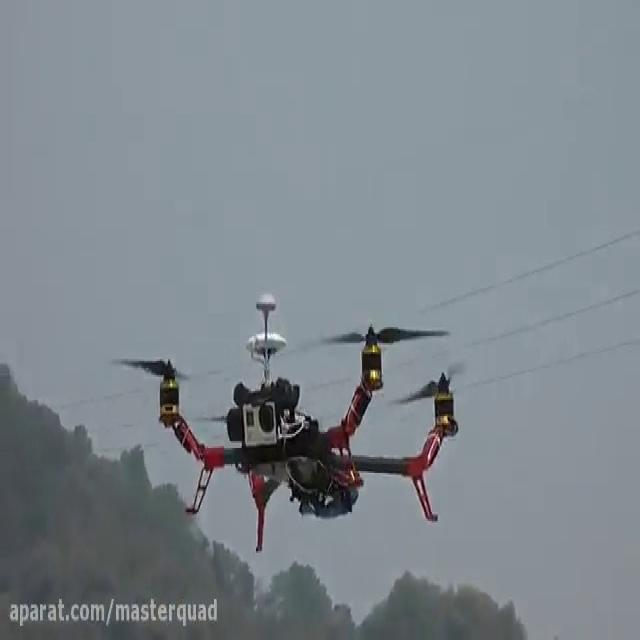drone: (102, 292, 474, 558)
